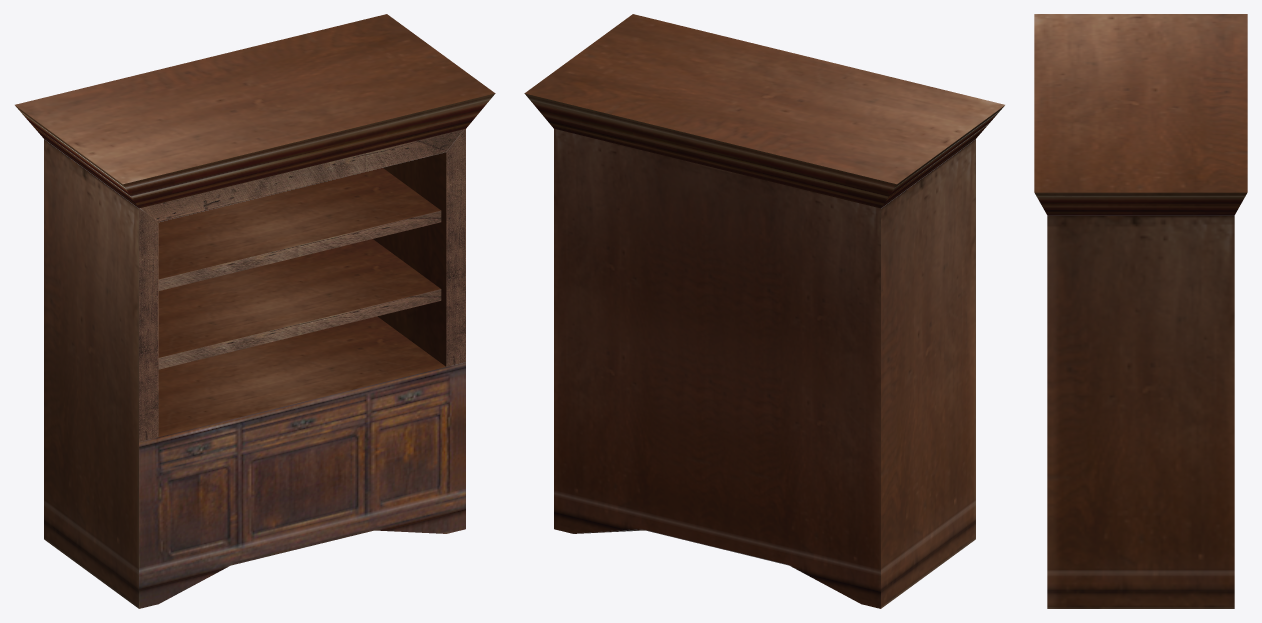
File: shelf.fbx
3 views of the same model, side by side, from view 1: azimuth 30°, elevation 25°; view 2: azimuth 150°, elevation 25°; view 3: azimuth 270°, elevation 25° (orthographic).
Visible parts, largest first — view 1: shelf; view 2: shelf; view 3: shelf.
Part boxes in pixels (x1,y1,x2,y2): shelf: (15, 14, 495, 608); shelf: (524, 14, 1004, 608); shelf: (1034, 14, 1247, 608).
Size of the model in its own units: 111 by 124 by 56.19.
